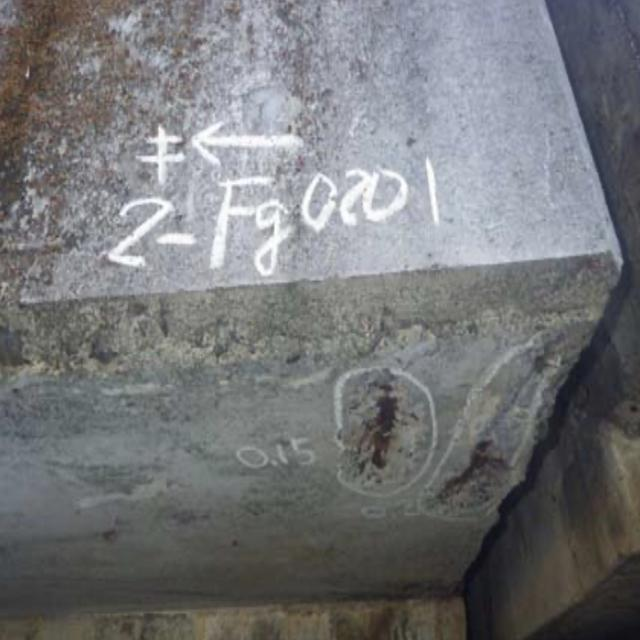spalling: (334, 373, 519, 533)
